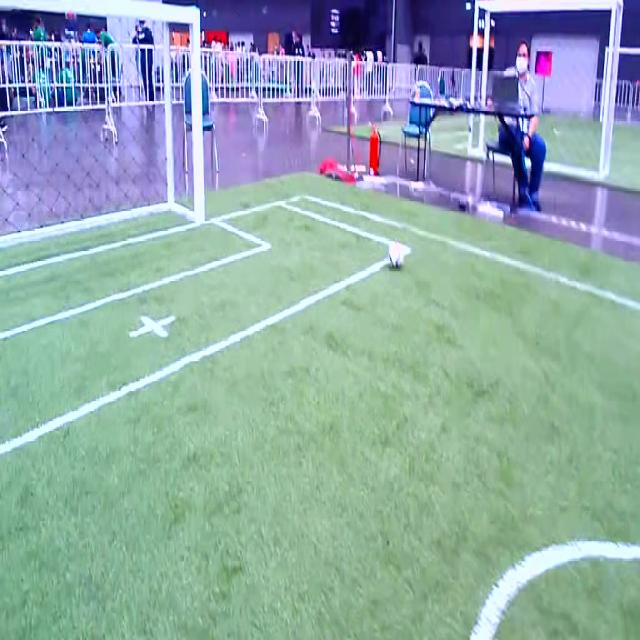ball: (389, 244, 404, 268)
